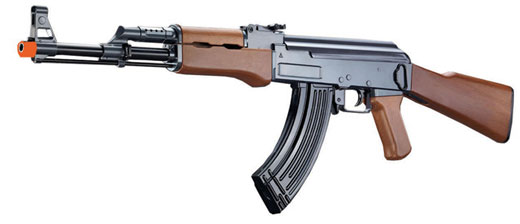rifle: (15, 5, 505, 213)
